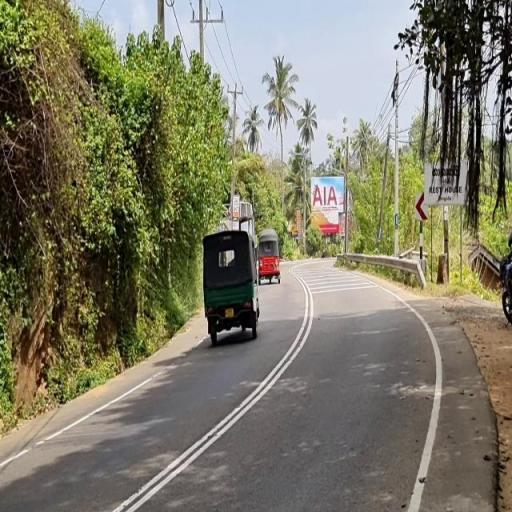double_white_line: (108, 273, 314, 512)
